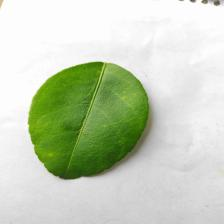greening: (38, 96, 131, 160)
